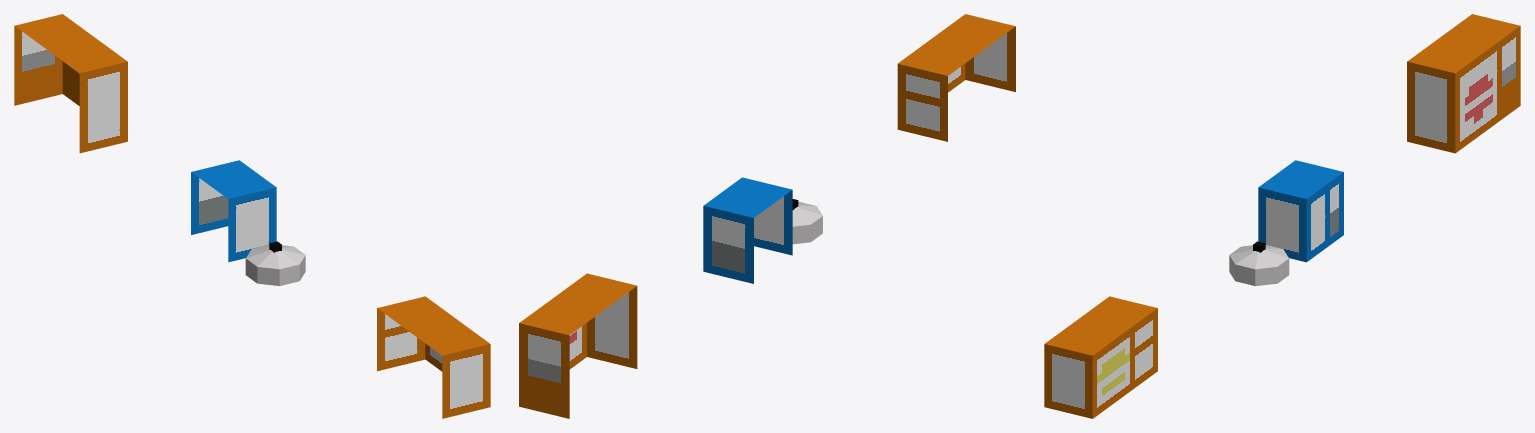
File: Kantin.gltf
3 views of the same model, side by side, from view 1: azimuth 30°, elevation 25°; view 2: azimuth 150°, elevation 25°; view 3: azimuth 330°, elevation 25° (orthographic). The views are drawn at different scales.
Parts seen in each view (by area): view 1: stand; view 2: stand; view 3: stand.
Part boxes in pixels (x1,y1,x2,y2): stand: (14, 14, 490, 418); stand: (519, 14, 1015, 418); stand: (1044, 14, 1520, 418).
Bounding box in the file's own units: 0.1875 × 0.2969 × 2.88.
Materials: 1 (1 with a texture image).
